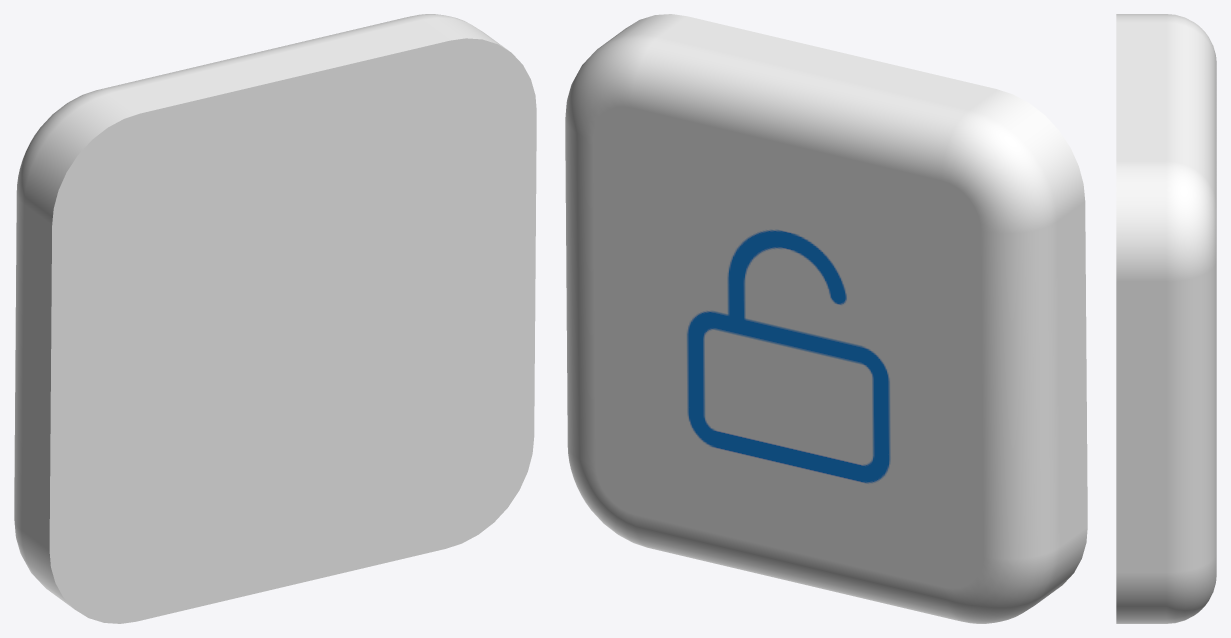
Rendered from lock.fbx.
3 views of the same model, side by side, from view 1: azimuth 30°, elevation 25°; view 2: azimuth 150°, elevation 25°; view 3: azimuth 270°, elevation 25° (orthographic). The views are drawn at different scales.
Visible parts, largest first — view 1: Lock; view 2: Lock; view 3: Lock.
Part boxes in pixels (x1,y1,x2,y2): Lock: (14,14,536,623); Lock: (565,14,1087,623); Lock: (1116,14,1216,623).
Bounding box in the file's own units: 503 × 503 × 100.
